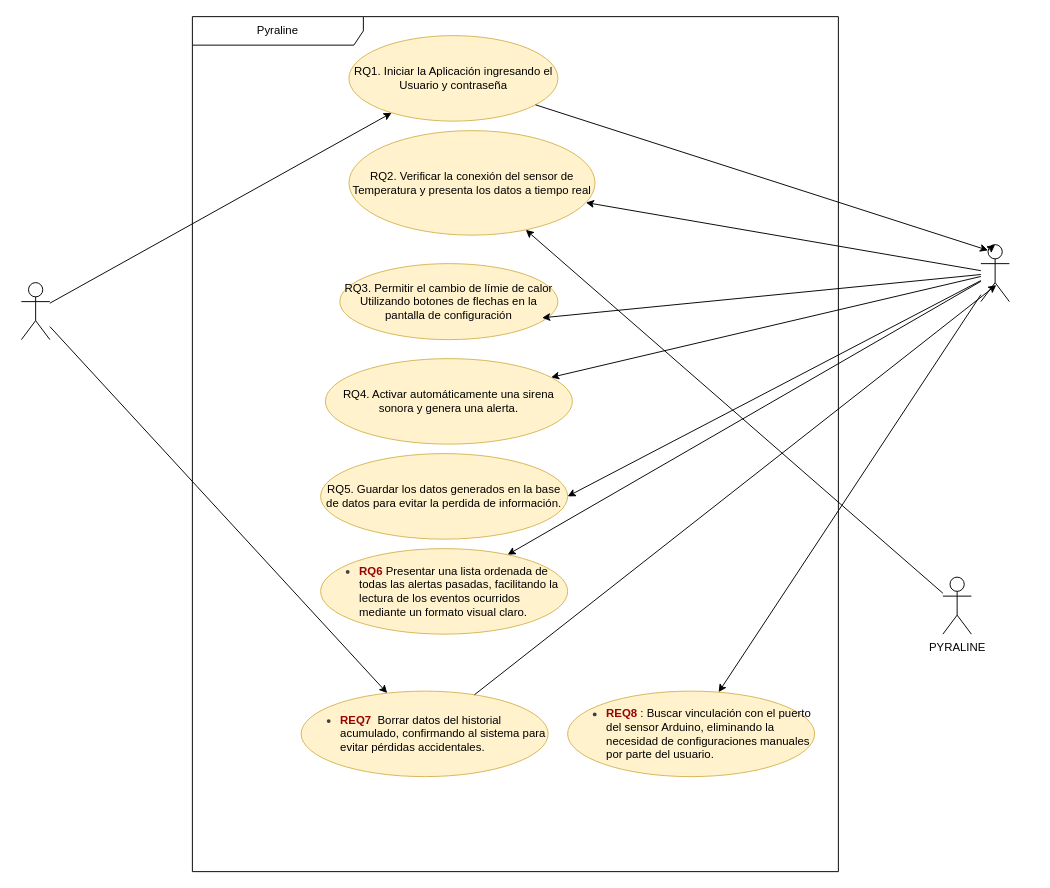
Image size: 1050x888. Some labels were removed from this diagram. Here are the shapes that lost their labels. From the top down, the box of each, then its label:
(980, 244, 1009, 302): AppPYRALINE
(20, 282, 50, 340): Usuario
